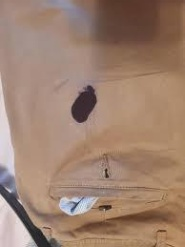ink: (70, 88, 97, 125)
